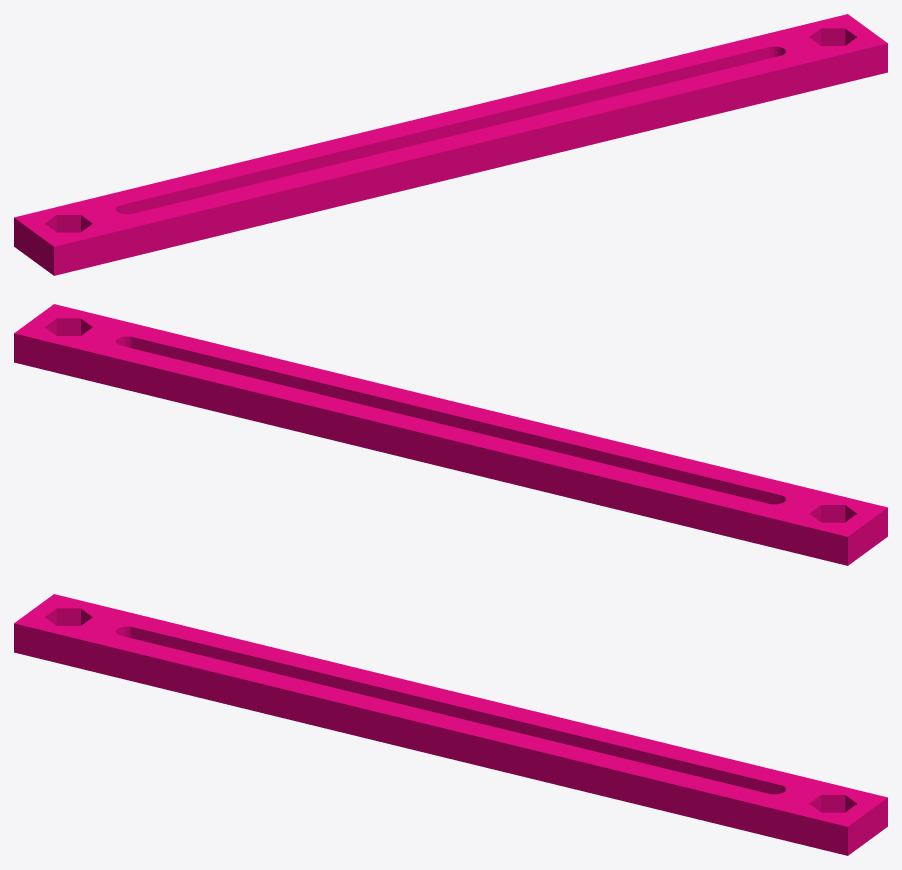
The model's file is I_Piece_2_hole_1_track_hole_Onde_Sided_Plate _12cm.glb.
The picture shows the model from 3 angles, top to bottom: view 1: azimuth 30°, elevation 25°; view 2: azimuth 150°, elevation 25°; view 3: azimuth 330°, elevation 25°; orthographic projection.
Visible parts, largest first — view 1: Cube.003; view 2: Cube.003; view 3: Cube.003.
Boxes of the visible parts, x1=… form: Cube.003: x1=14, y1=14, x2=887, y2=275; Cube.003: x1=14, y1=304, x2=887, y2=565; Cube.003: x1=14, y1=594, x2=887, y2=855.
Size of the model in its own units: 0.12 by 0.004 by 0.01.
